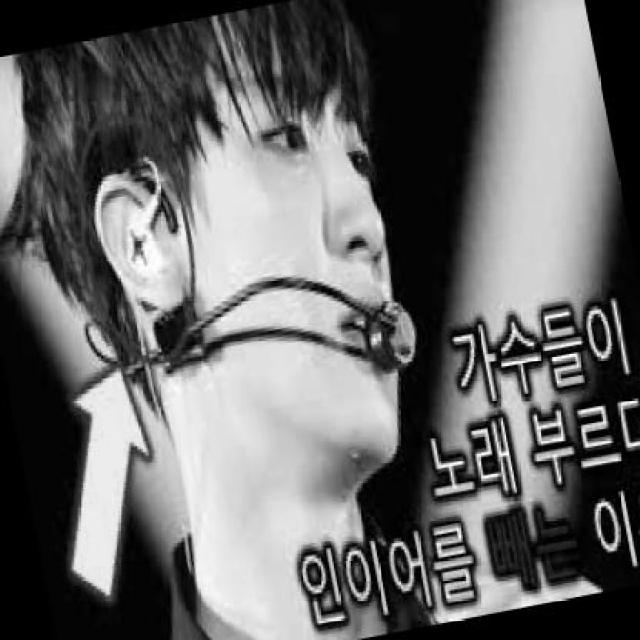earphone: (115, 198, 167, 285)
